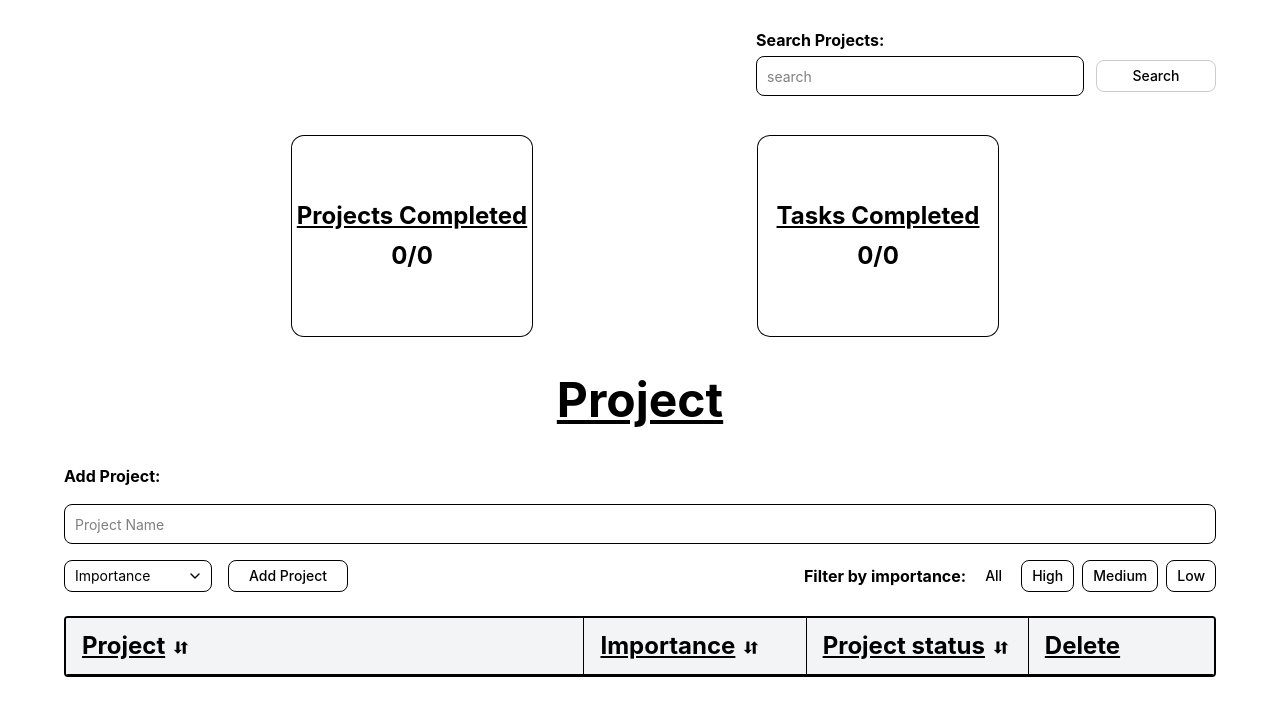
Test: ProjectCard › adds a new project when the Add Project button is clicked
This screenshot has width=1280, height=720.
Type "New Project" into the field with placeholder "Project Name". click: (640, 524)
box: [64,504,1216,544]
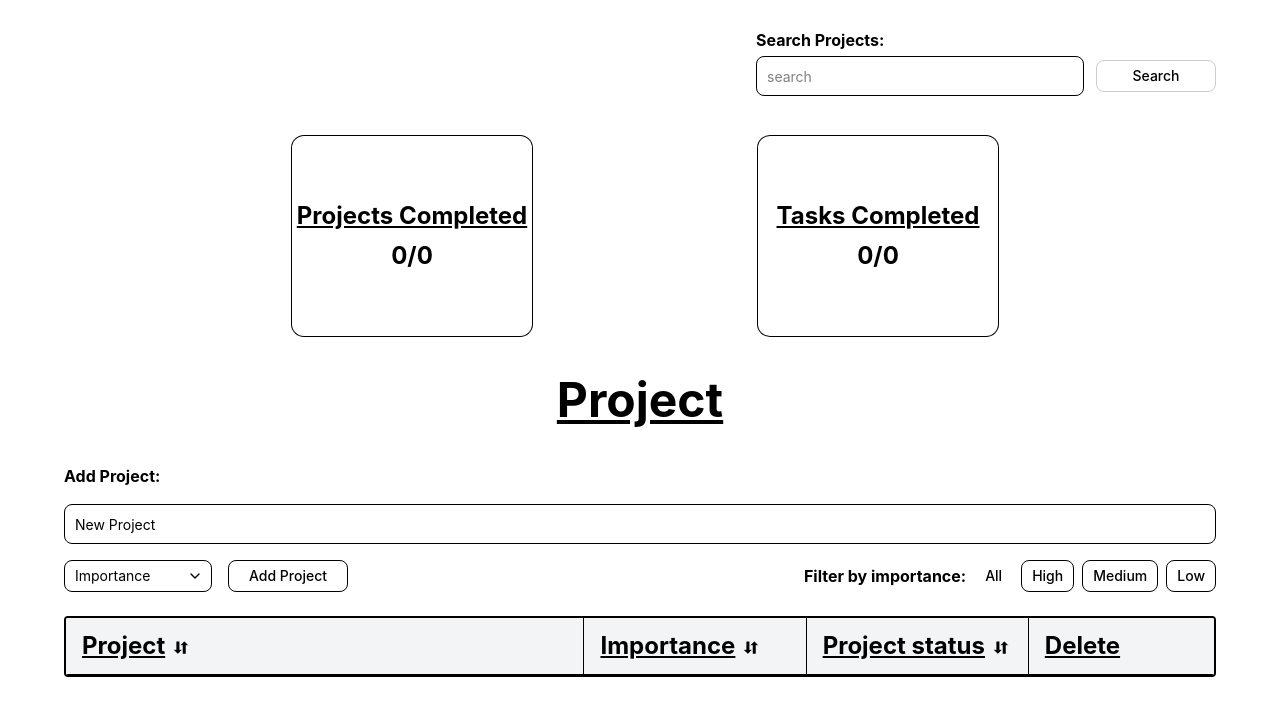
Check: the text "Importance" is shown, box [75,566,150,586]
Click the dropdown labelled "Importance". click: click(138, 576)
box: [64,560,212,592]
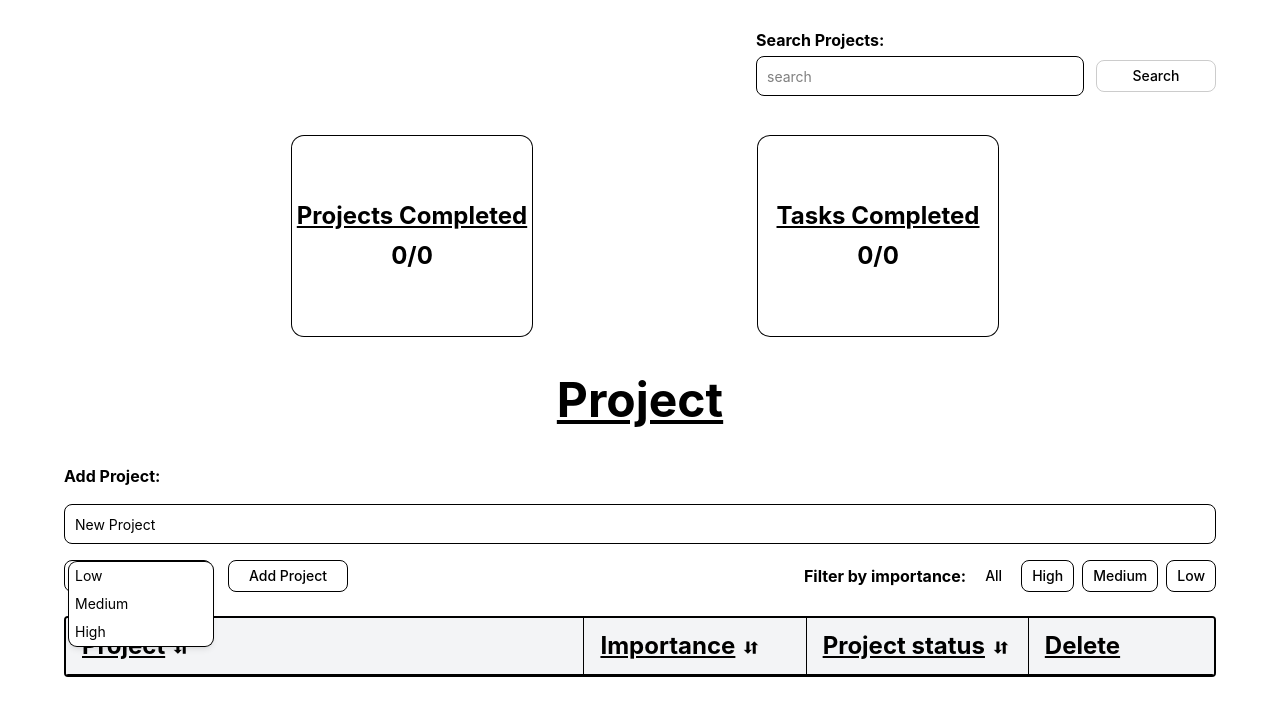
Check: the text "High" is shown
Click the option "High". click: click(90, 632)
box: [75,623,106,640]
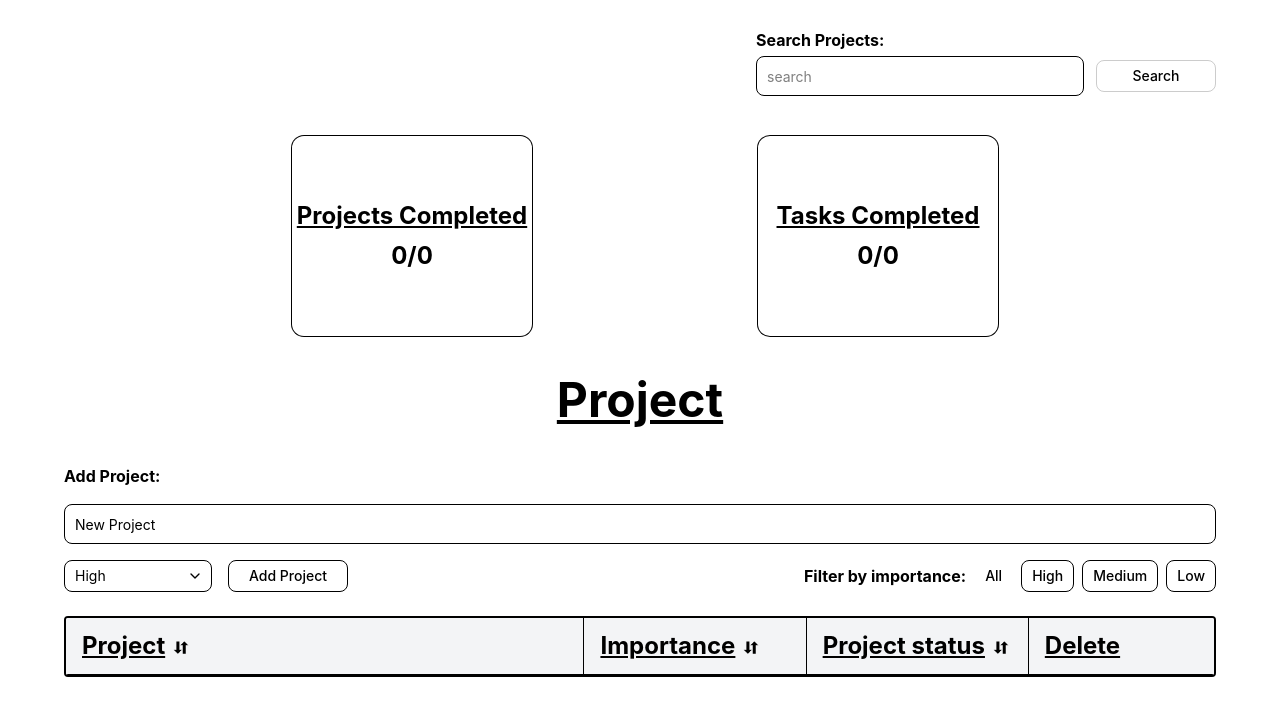
Click the button "Add Project". click: click(288, 576)
box: [228,560,348,592]
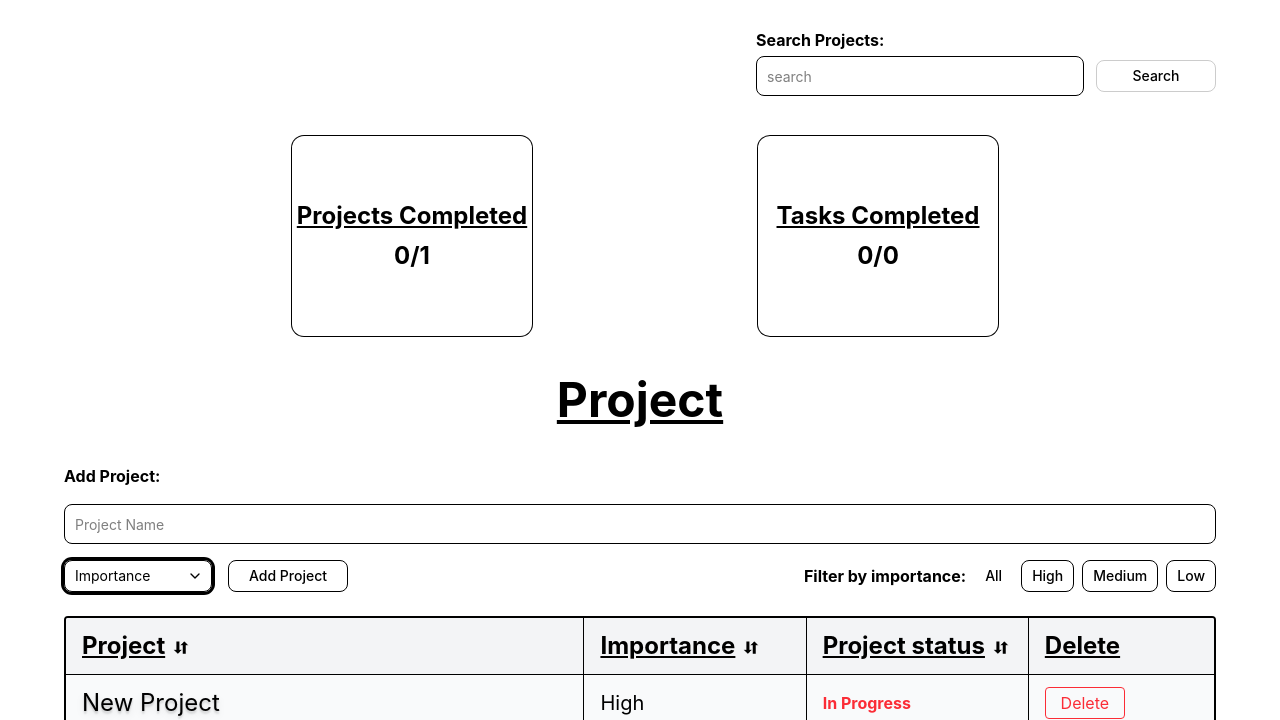
Check: the heading "New Project" is shown, box [82,687,220,719]
